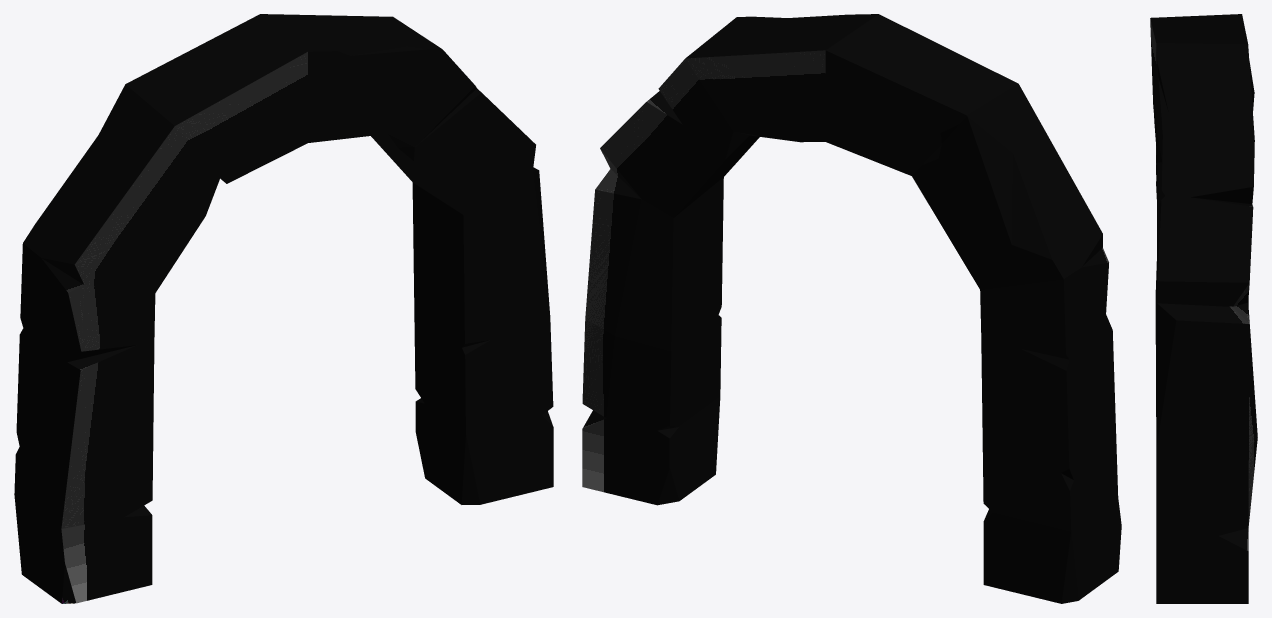
File: DoorEdge.fbx
3 views of the same model, side by side, from view 1: azimuth 30°, elevation 25°; view 2: azimuth 150°, elevation 25°; view 3: azimuth 270°, elevation 25° (orthographic). The views are drawn at different scales.
Parts seen in each view (by area): view 1: DoorEdge; view 2: DoorEdge; view 3: DoorEdge.
Boxes of the visible parts, x1,y1,x2,y2 form: DoorEdge: (14,14,553,603); DoorEdge: (582,14,1121,603); DoorEdge: (1150,14,1257,603).
Bounding box in the file's own units: 1117 × 1082 × 234.
